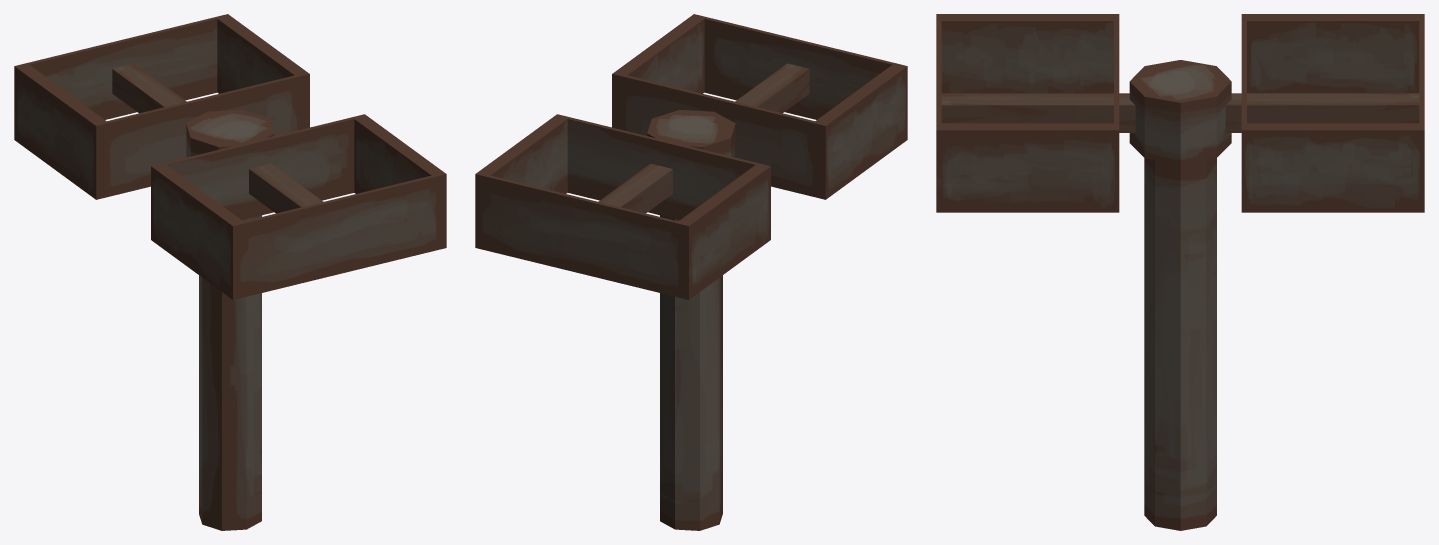
File: squishedRotatingPlatform.fbx
3 renders of one model, left to right at view 1: azimuth 30°, elevation 25°; view 2: azimuth 150°, elevation 25°; view 3: azimuth 270°, elevation 25°, orthographic. The views are drawn at different scales.
Visible parts, largest first — view 1: bladePlatform3, bladePlatform2, supportBeam, fanCenter, woodSupport2, woodSupport3; view 2: bladePlatform2, bladePlatform3, supportBeam, fanCenter, woodSupport3, woodSupport2; view 3: bladePlatform2, bladePlatform3, supportBeam, fanCenter, woodSupport2, woodSupport3.
Part boxes in pixels (x1=…): bladePlatform3: x1=151, y1=114, x2=446, y2=299; bladePlatform2: x1=14, y1=14, x2=309, y2=199; supportBeam: x1=199, y1=215, x2=261, y2=530; fanCenter: x1=186, y1=109, x2=274, y2=157; woodSupport2: x1=112, y1=63, x2=186, y2=113; woodSupport3: x1=249, y1=163, x2=323, y2=213; bladePlatform2: x1=475, y1=114, x2=770, y2=299; bladePlatform3: x1=612, y1=14, x2=907, y2=199; supportBeam: x1=660, y1=215, x2=722, y2=530; fanCenter: x1=647, y1=109, x2=735, y2=157; woodSupport3: x1=735, y1=63, x2=809, y2=113; woodSupport2: x1=598, y1=163, x2=672, y2=213; bladePlatform2: x1=1241, y1=14, x2=1424, y2=212; bladePlatform3: x1=936, y1=14, x2=1119, y2=212; supportBeam: x1=1144, y1=158, x2=1216, y2=530; fanCenter: x1=1129, y1=60, x2=1231, y2=164; woodSupport2: x1=1225, y1=93, x2=1419, y2=132; woodSupport3: x1=941, y1=93, x2=1135, y2=132.
Bounding box in the file's own units: 0.1429 × 0.2541 × 0.2534.
